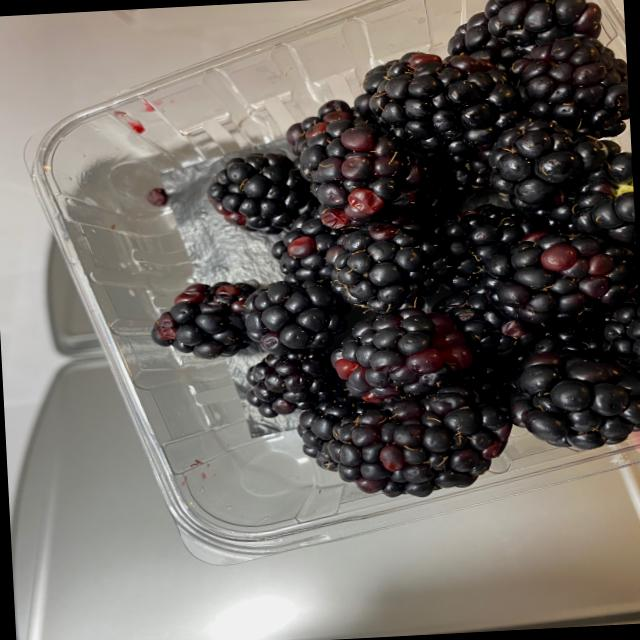blackberries: (126, 0, 640, 514)
